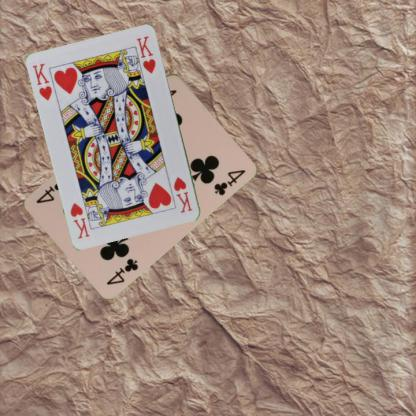4c: (104, 255, 140, 286)
Kh: (30, 61, 54, 102), (171, 174, 194, 214)
